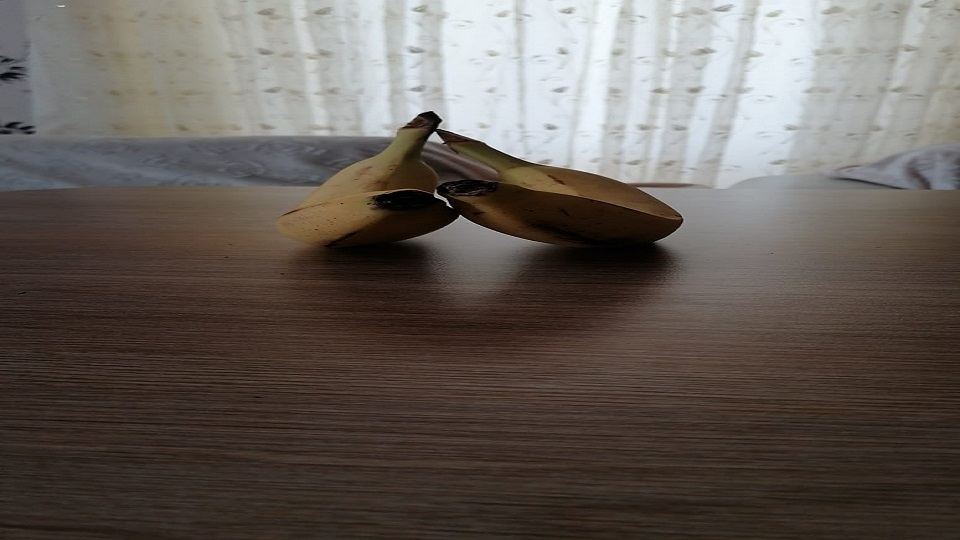muz: (440, 129, 686, 249), (271, 111, 452, 251)
